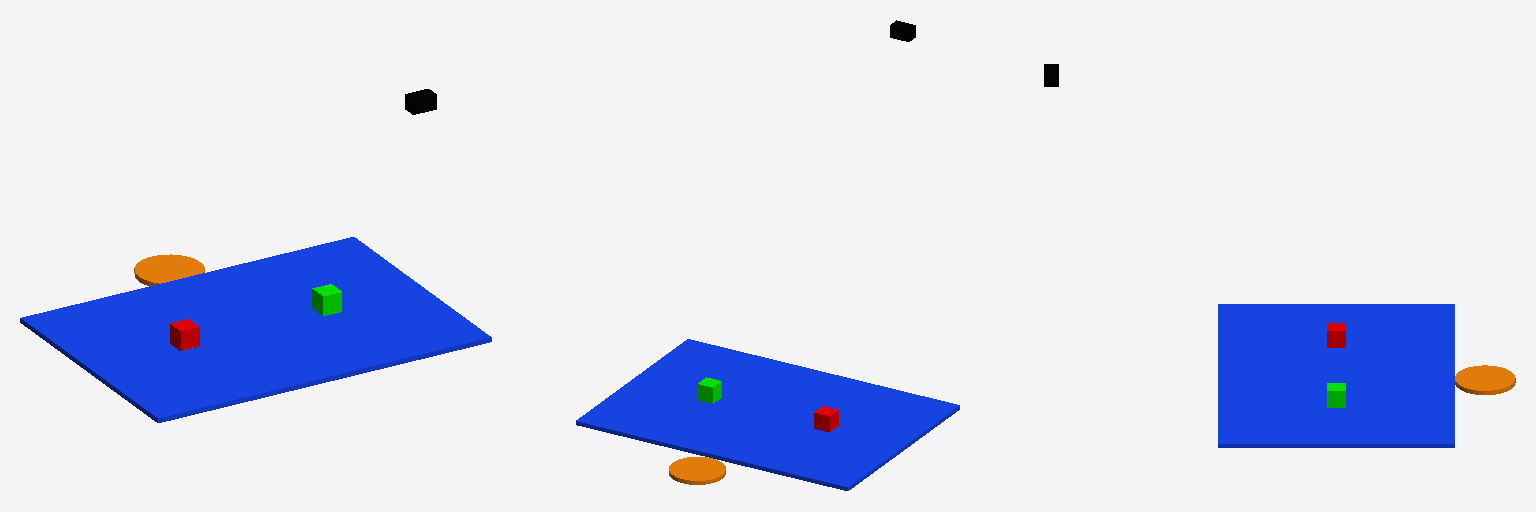
URDF robot description (holoassist_scene):
<?xml version="1.0"?>
<robot name="holoassist_scene">

  <material name="blue">
    <color rgba="0.1 0.3 1.0 0.6"/>
  </material>

  <material name="red">
    <color rgba="1.0 0.0 0.0 0.9"/>
  </material>

  <material name="green">
    <color rgba="0.0 1.0 0.0 0.9"/>
  </material>

  <material name="black">
    <color rgba="0.02 0.02 0.02 1.0"/>
  </material>

  <material name="orange">
    <color rgba="1.0 0.55 0.05 0.9"/>
  </material>

  <link name="world"/>

  <link name="board_link">
    <visual>
      <origin xyz="0 0 0" rpy="0 0 0"/>
      <geometry>
        <box size="0.700 0.500 0.010"/>
      </geometry>
      <material name="blue"/>
    </visual>
    <collision>
      <origin xyz="0 0 0" rpy="0 0 0"/>
      <geometry>
        <box size="0.700 0.500 0.010"/>
      </geometry>
    </collision>
  </link>

  <joint name="world_to_board" type="fixed">
    <parent link="world"/>
    <child link="board_link"/>
    <origin xyz="0 0 0" rpy="0 0 0"/>
  </joint>

  <link name="ur3e_base_link0">
    <visual>
      <origin xyz="0 0 0.005" rpy="0 0 0"/>
      <geometry>
        <cylinder radius="0.064" length="0.010"/>
      </geometry>
      <material name="orange"/>
    </visual>
    <collision>
      <origin xyz="0 0 0.005" rpy="0 0 0"/>
      <geometry>
        <cylinder radius="0.064" length="0.010"/>
      </geometry>
    </collision>
  </link>

  <joint name="board_to_ur3e_base" type="fixed">
    <parent link="board_link"/>
    <child link="ur3e_base_link0"/>
    <origin xyz="0 0.314 -0.015" rpy="0 0 0"/>
  </joint>

  <link name="camera_link">
    <visual>
      <origin xyz="0 0 0" rpy="0 0 0"/>
      <geometry>
        <box size="0.050 0.030 0.030"/>
      </geometry>
      <material name="black"/>
    </visual>
  </link>

  <joint name="board_to_camera" type="fixed">
    <parent link="board_link"/>
    <child link="camera_link"/>
    <origin xyz="0 -0.600 0.700" rpy="0 0 0"/>
  </joint>

  <link name="camera_color_optical_frame"/>

  <joint name="camera_link_to_color_optical" type="fixed">
    <parent link="camera_link"/>
    <child link="camera_color_optical_frame"/>
    <origin xyz="0 0 0" rpy="-1.5708 0 -1.5708"/>
  </joint>

  <link name="april_cube_1">
    <visual>
      <origin xyz="0 0 0" rpy="0 0 0"/>
      <geometry>
        <box size="0.040 0.040 0.040"/>
      </geometry>
      <material name="red"/>
    </visual>
    <collision>
      <origin xyz="0 0 0" rpy="0 0 0"/>
      <geometry>
        <box size="0.040 0.040 0.040"/>
      </geometry>
    </collision>
  </link>

  <joint name="board_to_april_cube_1" type="fixed">
    <parent link="board_link"/>
    <child link="april_cube_1"/>
    <origin xyz="-0.150 0.000 0.025" rpy="0 0 0"/>
  </joint>

  <link name="april_cube_2">
    <visual>
      <origin xyz="0 0 0" rpy="0 0 0"/>
      <geometry>
        <box size="0.040 0.040 0.040"/>
      </geometry>
      <material name="green"/>
    </visual>
    <collision>
      <origin xyz="0 0 0" rpy="0 0 0"/>
      <geometry>
        <box size="0.040 0.040 0.040"/>
      </geometry>
    </collision>
  </link>

  <joint name="board_to_april_cube_2" type="fixed">
    <parent link="board_link"/>
    <child link="april_cube_2"/>
    <origin xyz="0.150 0.000 0.025" rpy="0 0 0"/>
  </joint>

</robot>

--- What the picture shows (computed from the rendered views, not written in the file) ---
Views: 3 orthographic renders of the robot side by side, from view 1: azimuth 30°, elevation 25°; view 2: azimuth 150°, elevation 25°; view 3: azimuth 270°, elevation 25°.
Robot: holoassist_scene — 7 links, 6 joints (6 fixed); root link world; default pose: every joint at zero.
Links seen in each view (by area): view 1: board_link, ur3e_base_link0, april_cube_2, april_cube_1, camera_link; view 2: board_link, ur3e_base_link0, april_cube_1, april_cube_2; view 3: board_link, ur3e_base_link0.
Link boxes in pixels (<box>): board_link: <box>20,237,491,422</box>; ur3e_base_link0: <box>134,254,204,285</box>; april_cube_2: <box>312,284,341,315</box>; april_cube_1: <box>170,319,199,350</box>; camera_link: <box>405,89,436,114</box>; board_link: <box>576,339,959,490</box>; ur3e_base_link0: <box>669,457,725,484</box>; april_cube_1: <box>814,406,838,431</box>; april_cube_2: <box>697,377,721,403</box>; board_link: <box>1218,304,1454,447</box>; ur3e_base_link0: <box>1455,365,1515,394</box>.
Size in the robot's own frame: 0.7 by 0.993 by 0.73 metres.
Geometry: primitives only (box / cylinder / sphere), no mesh files.
